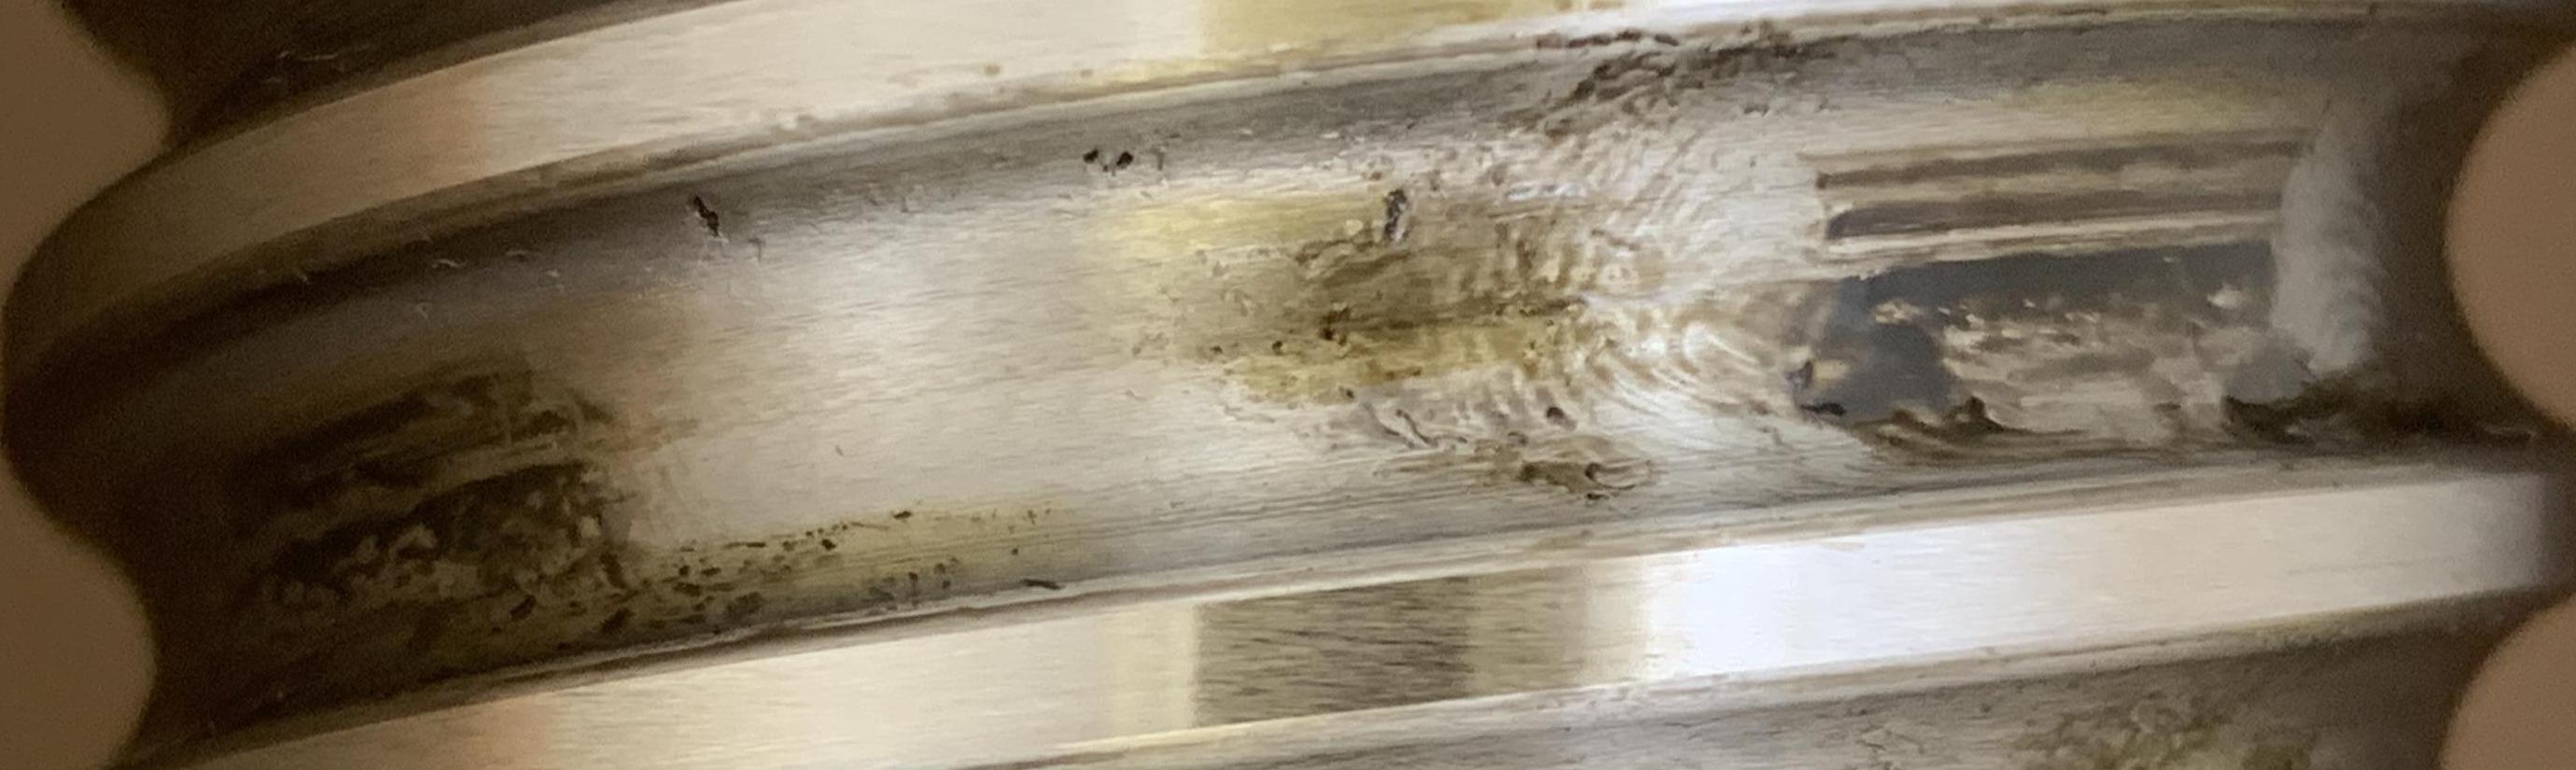pitting: (693, 195, 720, 238), (1114, 153, 1134, 166), (1081, 149, 1097, 163)
